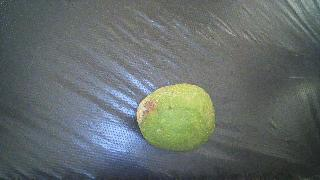DESECHO: (137, 84, 215, 152)
